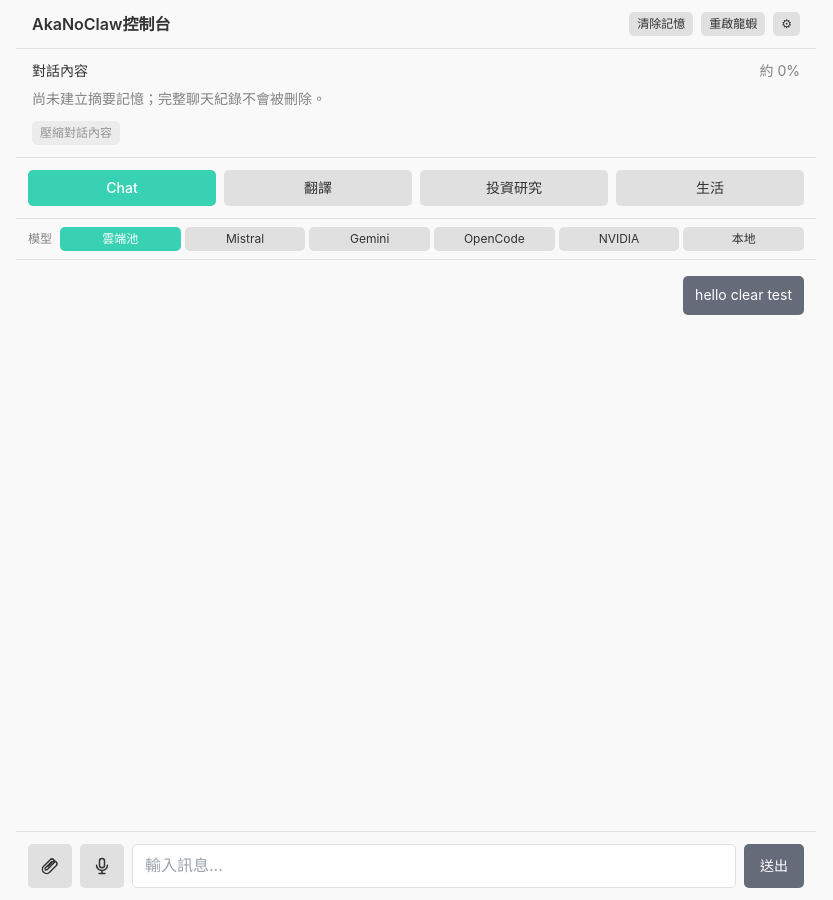
Scenario: App — clear memory (#2) › DELETE failure keeps messages visible and shows error notice
Expected: the text "hello clear test" is shown, [683, 276, 804, 315]
Click the button "清除記憶". click: (661, 24)
box: [629, 12, 693, 36]
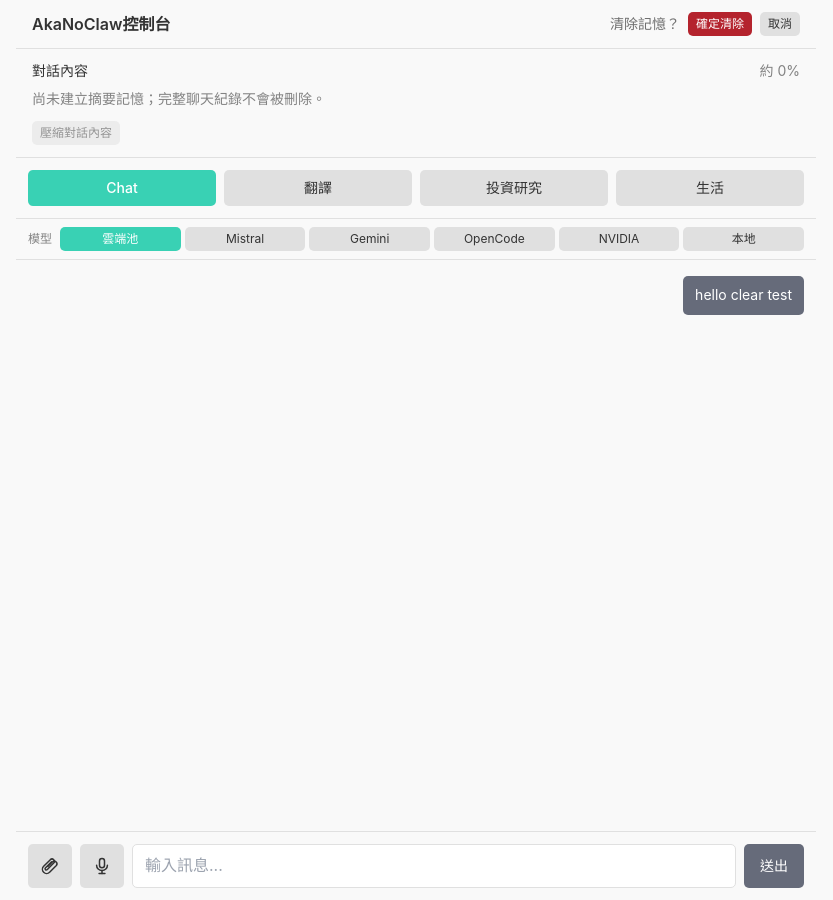
Click the button "確定清除". click: (720, 24)
box: [688, 12, 752, 36]
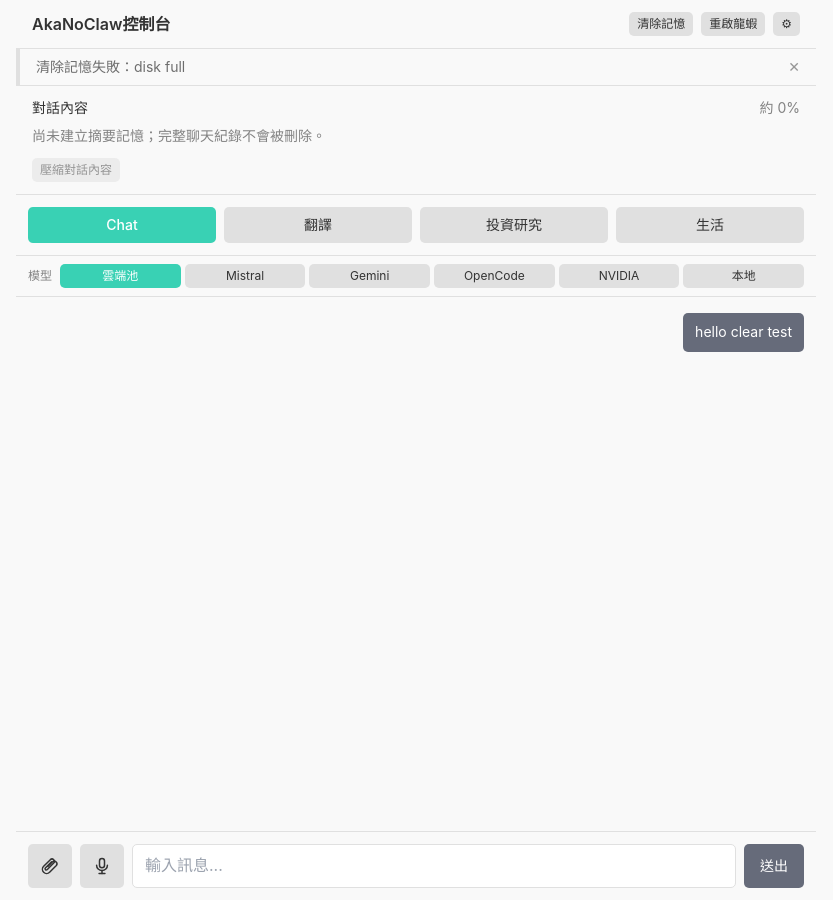
Expected: the text "hello clear test" is shown, [683, 313, 804, 352]
Now the text "清除記憶失敗：disk full" is shown, box [36, 57, 185, 77]
